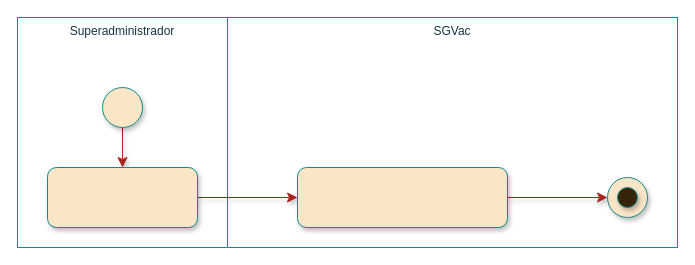
Some shapes in this 695 by 265 pixel diagram are drawn without their labels. The shapes that lost their labels are listed below. From the top down, each one's centre as x and y in pixels, then its label:
point (123, 198): Ingresa a la ventana de empresas
point (403, 198): Muestra una tabla con las empresas, con opción a operar con ellas
